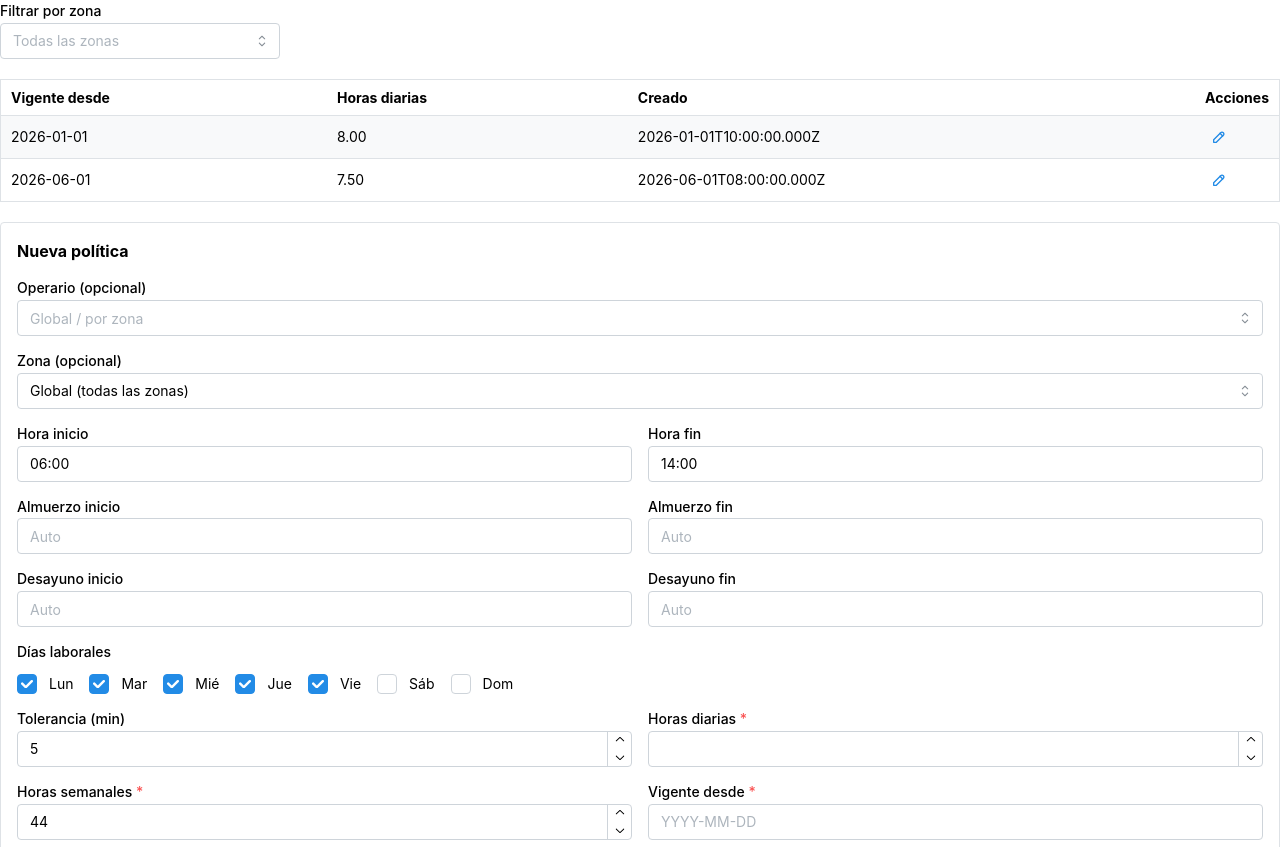
it: JornadaPolicyPanel · T13 append-only Edit › clicking "Editar" prefills all form fields from the row
Click the button named "editar pol-1": (1219, 137) [1205, 123, 1233, 151]
(page scrolled)
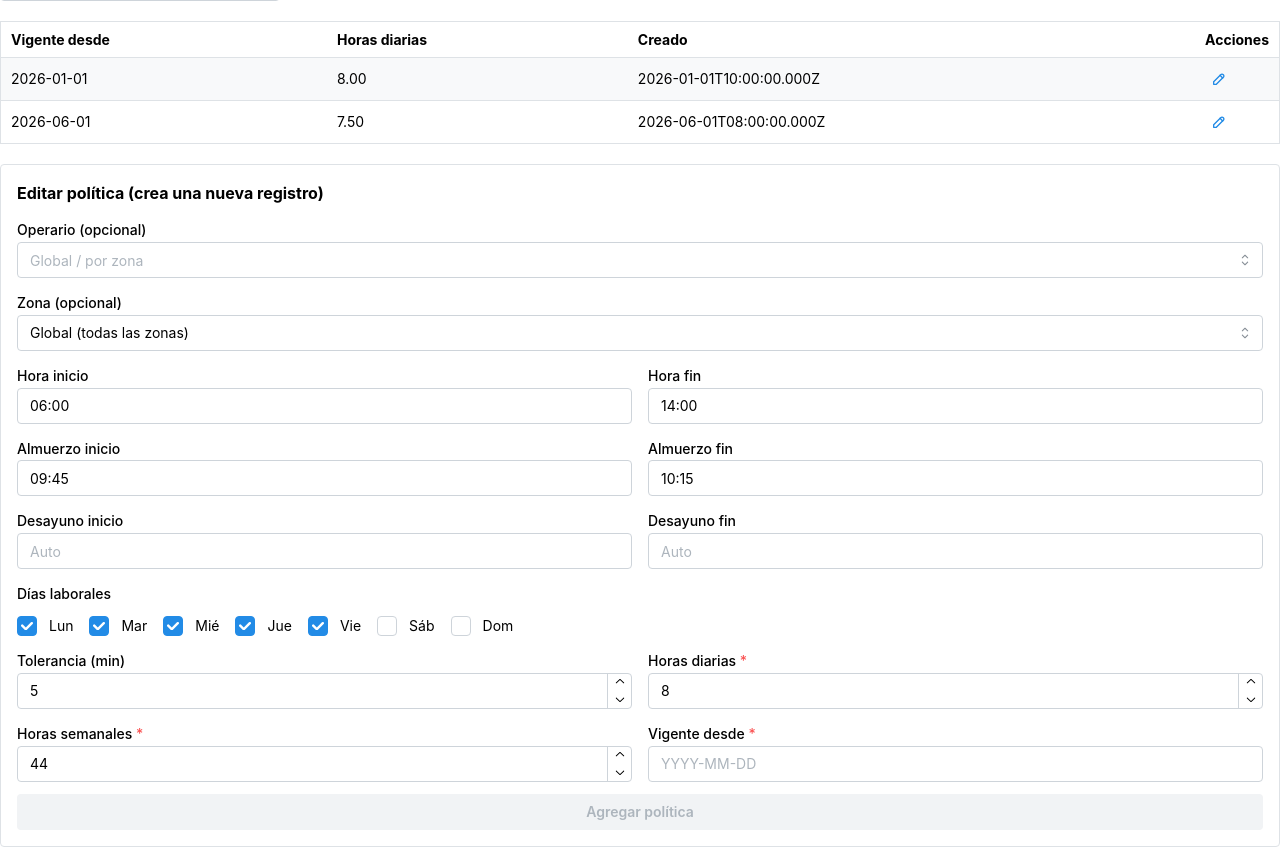
expect the field labelled "Hora inicio" holds "06:00": met, box [17, 388, 632, 424]
expect the field labelled "Hora fin" holds "14:00": met, box [648, 388, 1263, 424]
expect the field labelled "Horas diarias *" holds "8": met, box [648, 673, 1263, 709]
